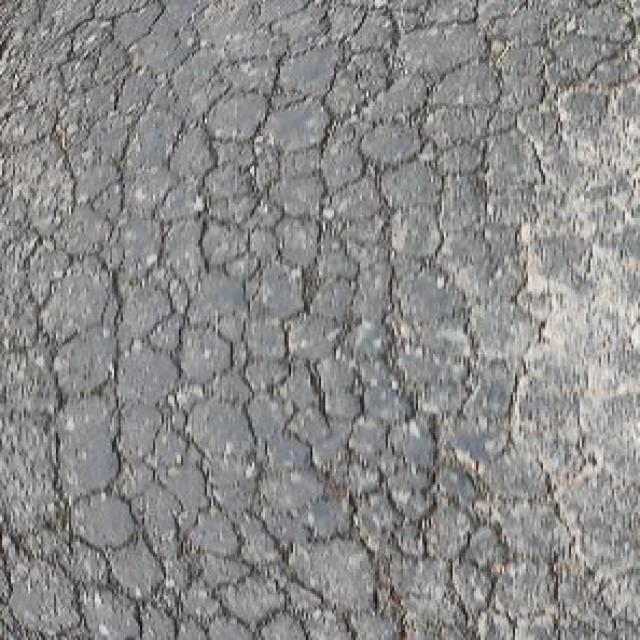PIEL DE COCODRILO: (1, 0, 638, 639)
